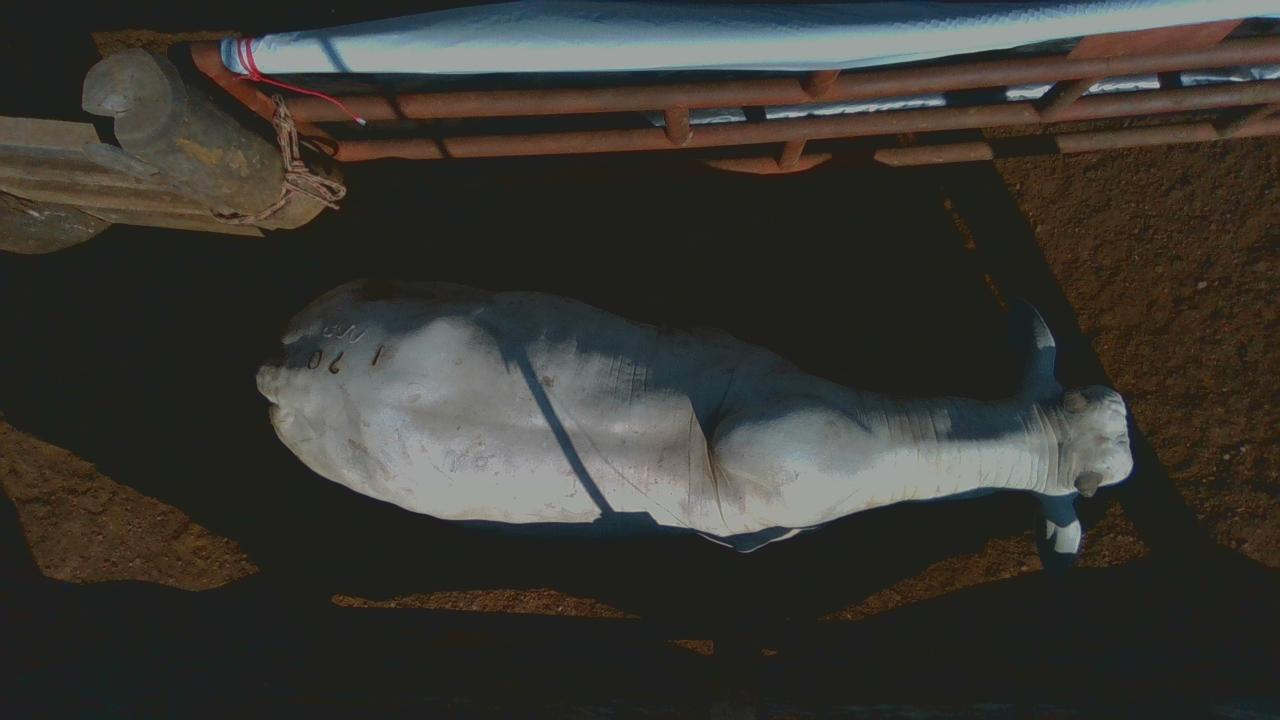cattle: (255, 273, 1134, 569)
